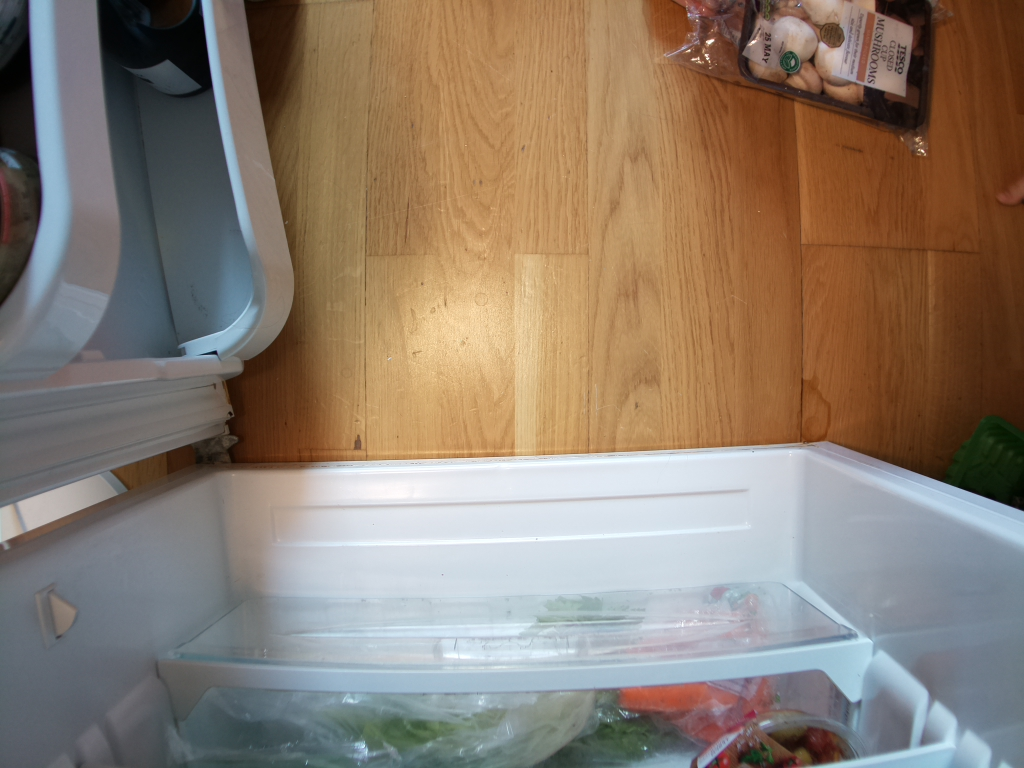mushrooms: (727, 1, 941, 139)
